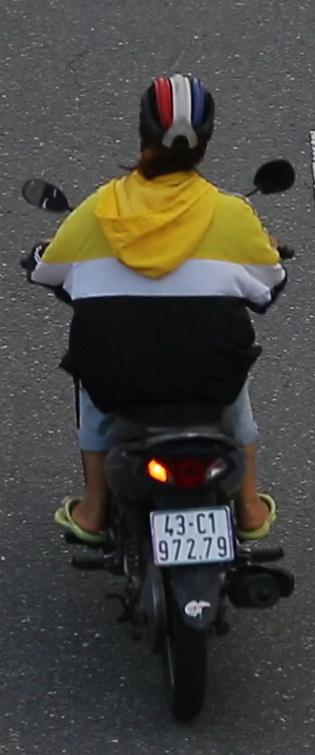LP: (145, 499, 236, 568)
helmet: (130, 67, 219, 186)
